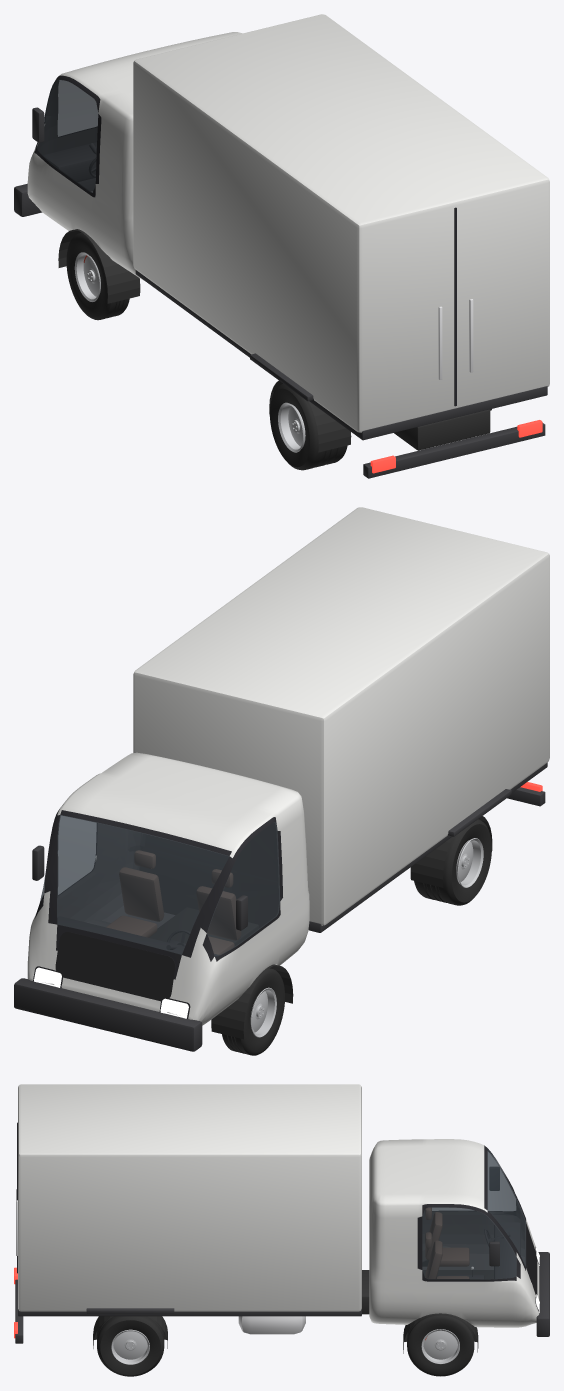
The model's file is t_lorry.glb.
The picture shows the model from 3 angles, top to bottom: view 1: azimuth 30°, elevation 25°; view 2: azimuth 150°, elevation 25°; view 3: azimuth 270°, elevation 25°; orthographic projection. The views are drawn at different scales.
Visible parts, largest first — view 1: CargoBox, Body.004, Glass.004, Wheel_RL.004, Wheel_FL.004, ArchLiners.004, CargoFrame, RearUnderrun, Chassis, Interior_Shell.004, Interior.004, CargoDoorHandles (+4 smaller); view 2: CargoBox, Body.004, Glass.004, Interior_Shell.004, Bumper_Front.002, Interior.004, Grille.003, Wheel_RL.004, Wheel_FL.004, ArchLiners.004, Chassis, CargoFrame (+2 smaller); view 3: CargoBox, Body.004, Glass.004, Wheel_RR.004, Wheel_FR.004, Interior.004, Interior_Shell.004, CargoFrame, FuelTank, Bumper_Front.002, ArchLiners.004, Chassis (+3 smaller).
Part boxes in pixels (bbox=[...]): CargoBox: bbox=[133, 14, 549, 432]; Body.004: bbox=[27, 32, 242, 280]; Glass.004: bbox=[36, 79, 98, 192]; Wheel_RL.004: bbox=[269, 383, 347, 470]; Wheel_FL.004: bbox=[66, 233, 129, 320]; ArchLiners.004: bbox=[58, 229, 491, 452]; CargoFrame: bbox=[135, 270, 547, 440]; RearUnderrun: bbox=[363, 423, 545, 478]; Chassis: bbox=[93, 190, 490, 450]; Interior_Shell.004: bbox=[37, 79, 97, 192]; Interior.004: bbox=[43, 142, 96, 181]; CargoDoorHandles: bbox=[438, 299, 473, 379]; CargoBox: bbox=[133, 507, 549, 925]; Body.004: bbox=[27, 752, 309, 1025]; Glass.004: bbox=[40, 815, 280, 956]; Interior_Shell.004: bbox=[57, 815, 280, 954]; Bumper_Front.002: bbox=[14, 978, 202, 1051]; Interior.004: bbox=[57, 850, 241, 956]; Grille.003: bbox=[55, 932, 175, 1001]; Wheel_RL.004: bbox=[414, 819, 491, 905]; Wheel_FL.004: bbox=[222, 968, 285, 1055]; ArchLiners.004: bbox=[211, 816, 492, 1039]; Chassis: bbox=[149, 907, 258, 945]; CargoFrame: bbox=[308, 762, 547, 932]; CargoBox: bbox=[18, 1084, 361, 1311]; Body.004: bbox=[369, 1139, 539, 1327]; Glass.004: bbox=[422, 1149, 525, 1279]; Wheel_RR.004: bbox=[97, 1316, 164, 1376]; Wheel_FR.004: bbox=[407, 1314, 474, 1376]; Interior.004: bbox=[422, 1207, 520, 1279]; Interior_Shell.004: bbox=[422, 1150, 525, 1279]; CargoFrame: bbox=[18, 1309, 361, 1316]; FuelTank: bbox=[238, 1316, 305, 1334]; Bumper_Front.002: bbox=[536, 1252, 549, 1336]; ArchLiners.004: bbox=[93, 1260, 478, 1353]; Chassis: bbox=[362, 1270, 493, 1314].
Size of what is drawn, in the model's own units: 2.72 by 3.7 by 7.95.
